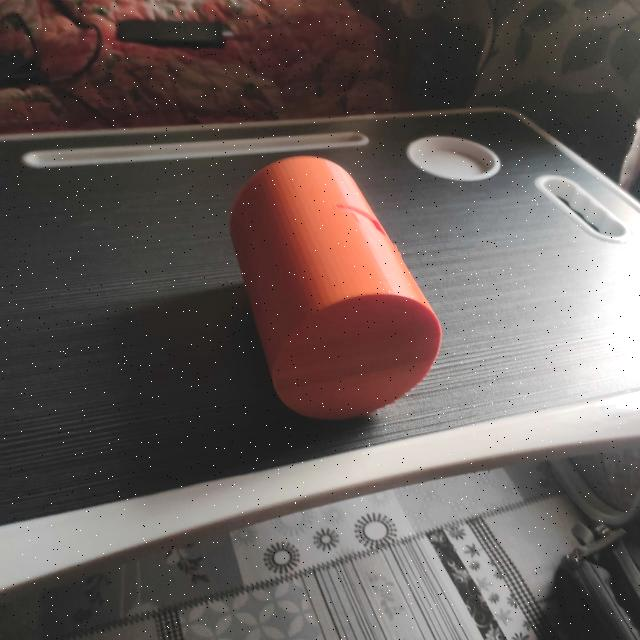Cylinder: (228, 153, 442, 421)
